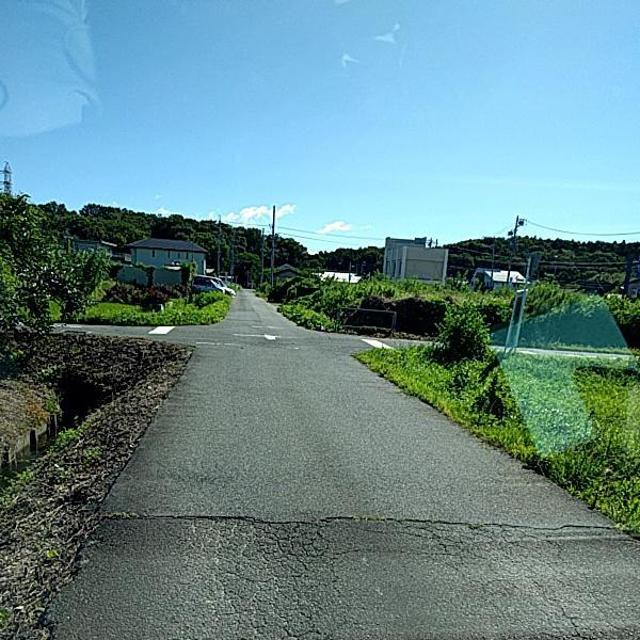Melintang: (90, 499, 627, 548)
